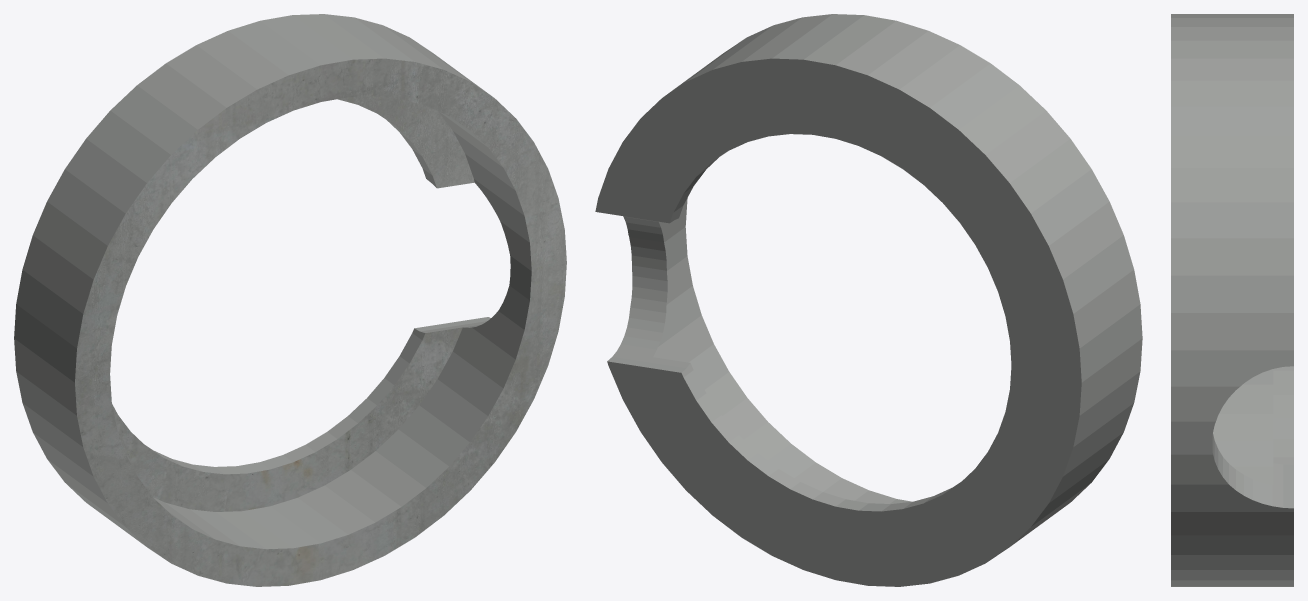
The model's file is pool_004.obj.
3 renders of one model, left to right at view 1: azimuth 30°, elevation 25°; view 2: azimuth 150°, elevation 25°; view 3: azimuth 270°, elevation 25°, orthographic.
Bounding box in the file's own units: 14 × 14 × 3.
